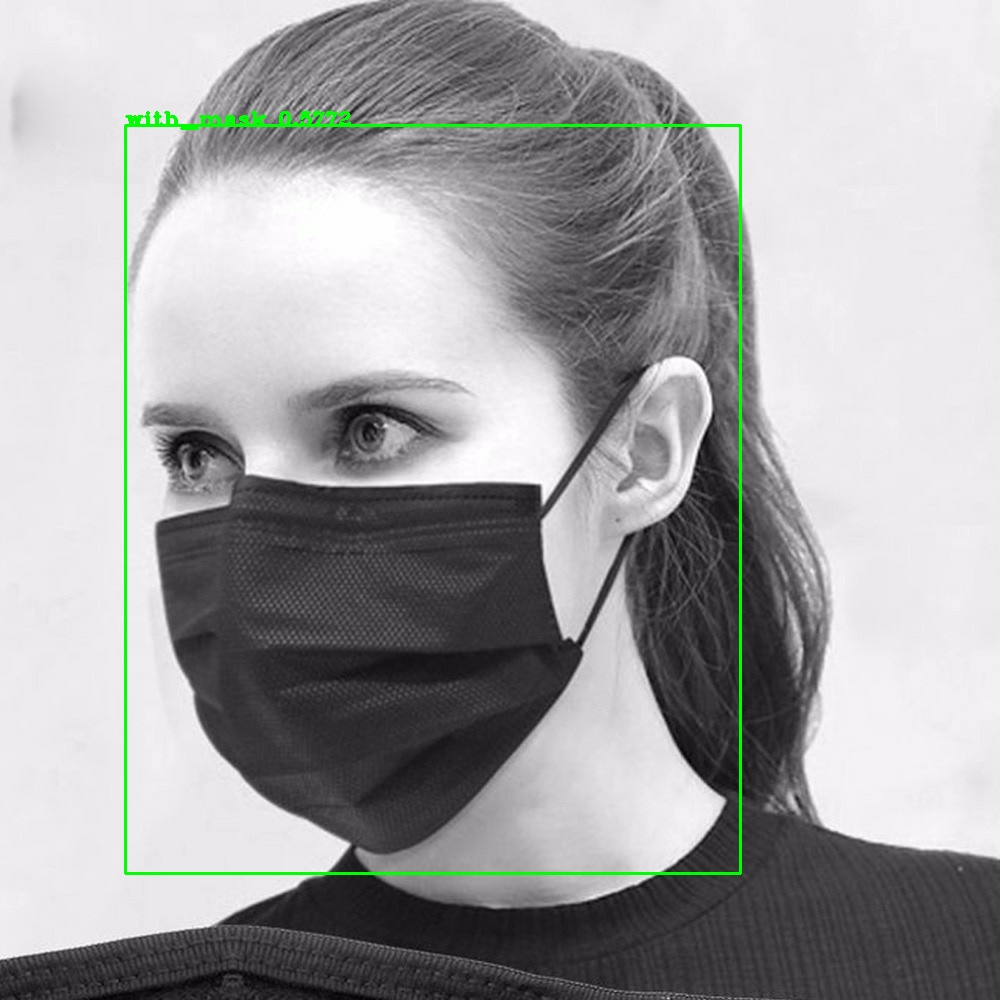with_mask: (89, 110, 777, 888)
